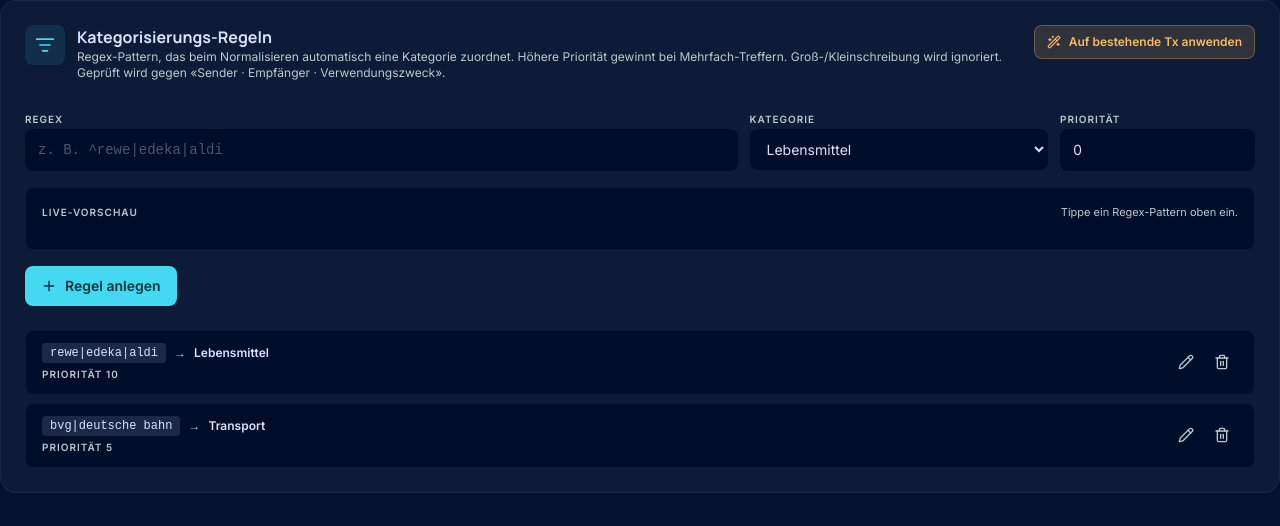
RulesSection › reports zero matches with an italic line
Type "shouldnotmatchanything12345" into the field labelled "Regex" at (381, 150), box [25, 129, 738, 171]
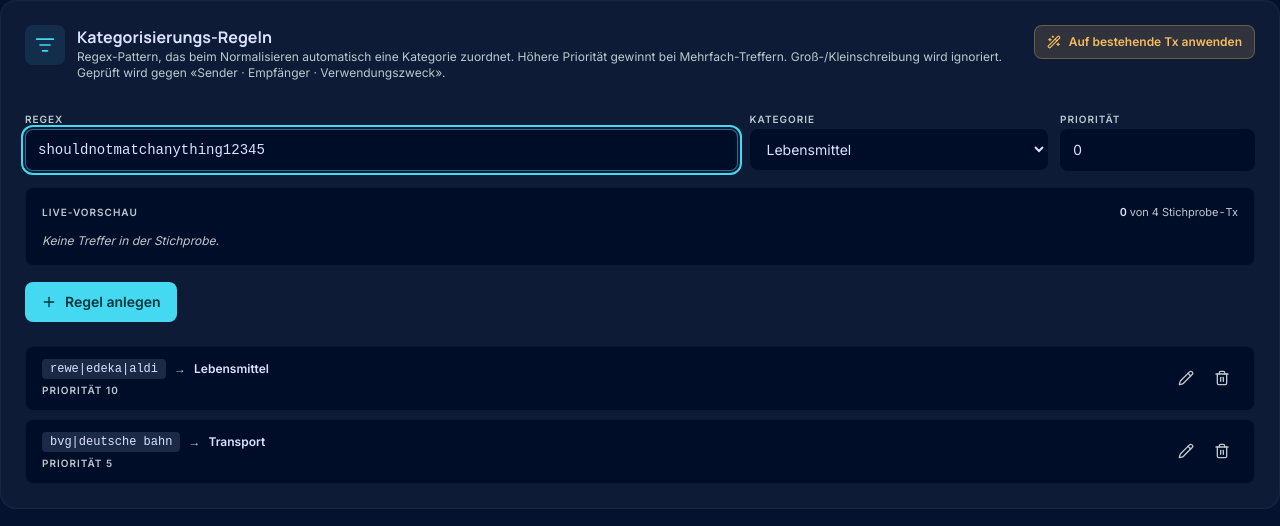
expect the text "Keine Treffer in der Stichprobe." is shown: met, box [42, 232, 219, 248]
